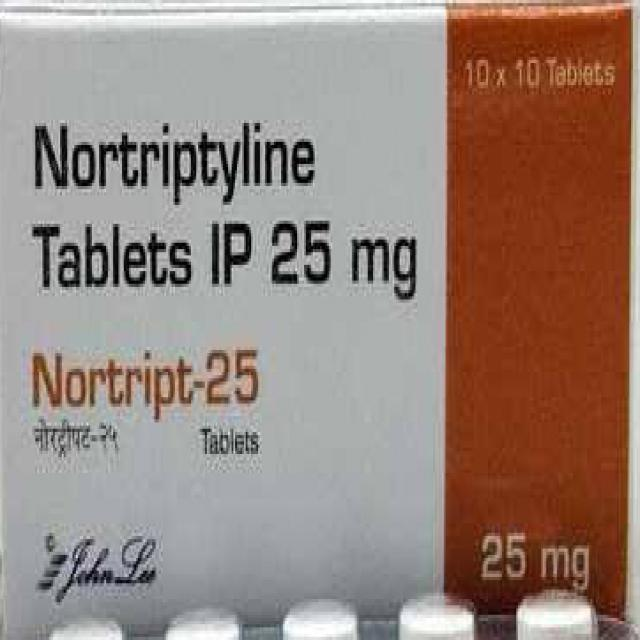drug-name: (28, 346, 260, 419)
